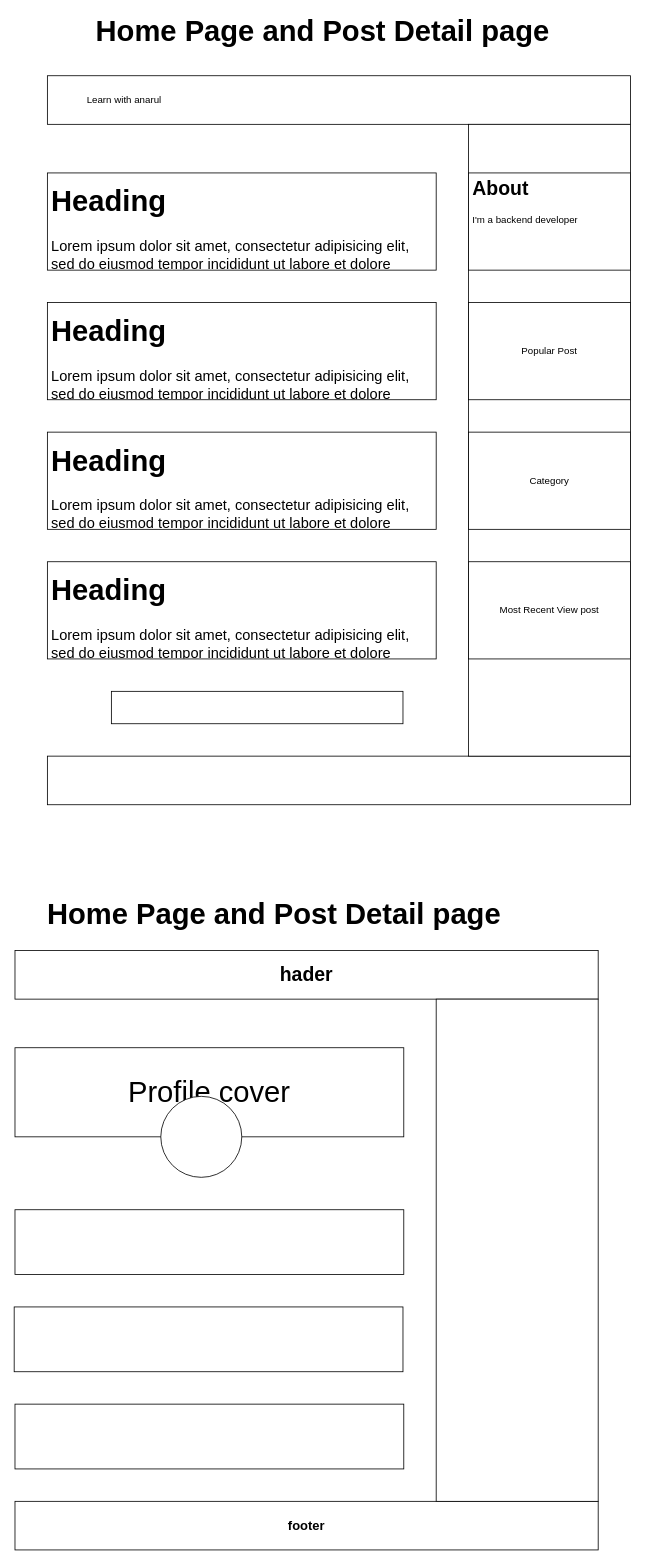
The diagram is 645 pixels wide and 1564 high, and some of its shapes have lost their labels. Here are the shapes that lost their labels. From the top down, the centre of each, then its label:
(x=257, y=707): Pagination
(x=201, y=1136): Ava
